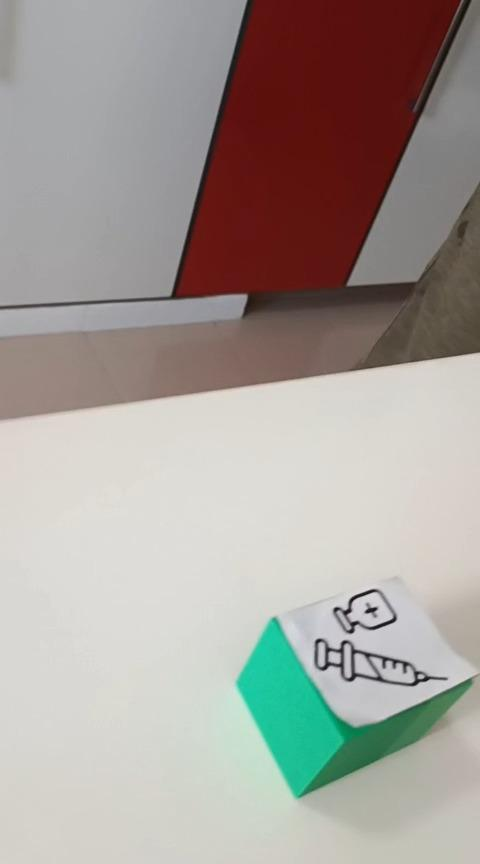antiseptic cream: (234, 573, 477, 799)
